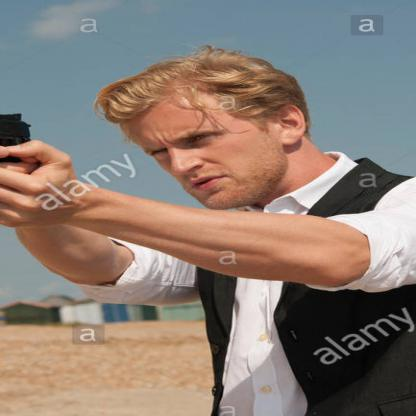gun: (0, 96, 41, 172)
